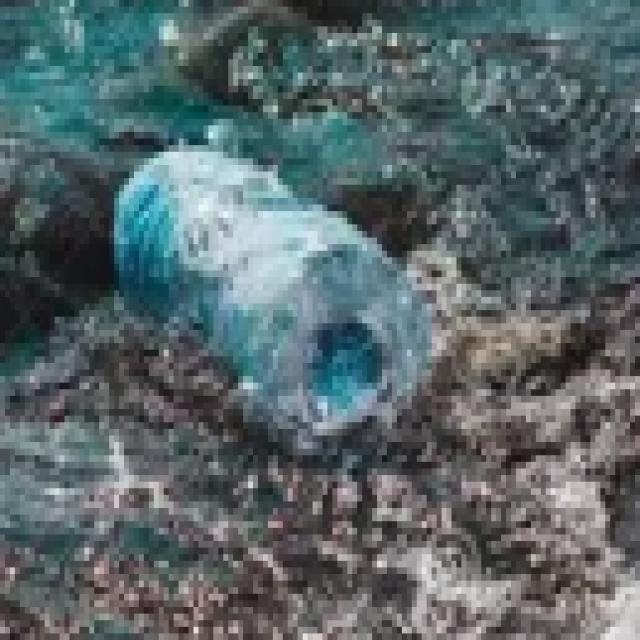Trash: (120, 150, 439, 469)
